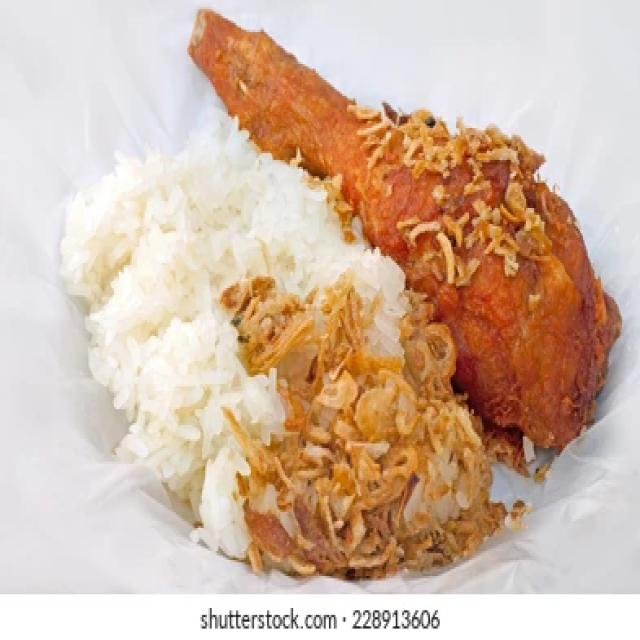carb: (62, 112, 407, 558), (222, 280, 505, 577)
meat: (190, 12, 622, 470)
